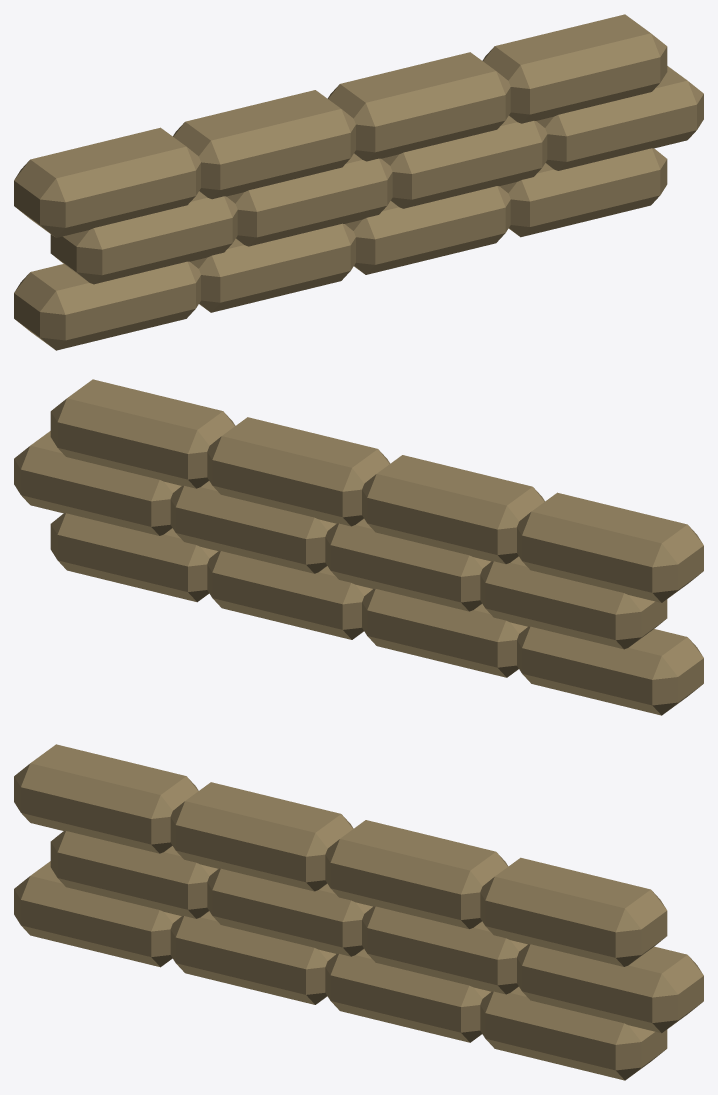
Rendered from SandbagWall.fbx.
3 views of the same model, one above another, from view 1: azimuth 30°, elevation 25°; view 2: azimuth 150°, elevation 25°; view 3: azimuth 330°, elevation 25° (orthographic).
Visible parts, largest first — view 1: Sandbag.008, Sandbag.011, Sandbag.009, Sandbag.010, Sandbag, Sandbag.004, Sandbag.007, Sandbag.003, Sandbag.002, Sandbag.001, Sandbag.005, Sandbag.006; view 2: Sandbag.008, Sandbag.011, Sandbag.009, Sandbag.010, Sandbag, Sandbag.004, Sandbag.007, Sandbag.003, Sandbag.002, Sandbag.001, Sandbag.005, Sandbag.006; view 3: Sandbag.011, Sandbag.008, Sandbag.009, Sandbag.010, Sandbag.007, Sandbag.003, Sandbag, Sandbag.001, Sandbag.002, Sandbag.004, Sandbag.005, Sandbag.006.
Part boxes in pixels (x1,y1,x2,y2): Sandbag.008: (14,127,200,237); Sandbag.011: (482,14,667,123); Sandbag.009: (173,90,355,199); Sandbag.010: (327,52,510,161); Sandbag: (14,261,200,350); Sandbag.004: (50,191,237,284); Sandbag.007: (536,66,703,170); Sandbag.003: (499,148,667,237); Sandbag.002: (345,186,510,274); Sandbag.001: (190,223,355,312); Sandbag.005: (227,154,392,246); Sandbag.006: (381,116,547,208); Sandbag.008: (517,492,703,602); Sandbag.011: (50,379,235,488); Sandbag.009: (362,455,544,564); Sandbag.010: (207,417,390,526); Sandbag: (517,626,703,715); Sandbag.004: (480,556,667,649); Sandbag.007: (14,431,181,535); Sandbag.003: (50,513,218,602); Sandbag.002: (207,551,372,639); Sandbag.001: (362,588,527,677); Sandbag.005: (325,519,490,611); Sandbag.006: (170,481,336,573); Sandbag.011: (480,857,667,966); Sandbag.008: (14,744,198,853); Sandbag.009: (170,782,353,891); Sandbag.010: (325,820,508,929); Sandbag.007: (517,944,703,1033); Sandbag.003: (480,987,667,1080); Sandbag: (14,861,181,967); Sandbag.001: (170,911,335,1004); Sandbag.002: (325,949,490,1042); Sandbag.004: (50,831,217,918); Sandbag.005: (207,868,372,956); Sandbag.006: (362,906,527,994).
Size of the model in its own units: 815 by 202 by 95.
